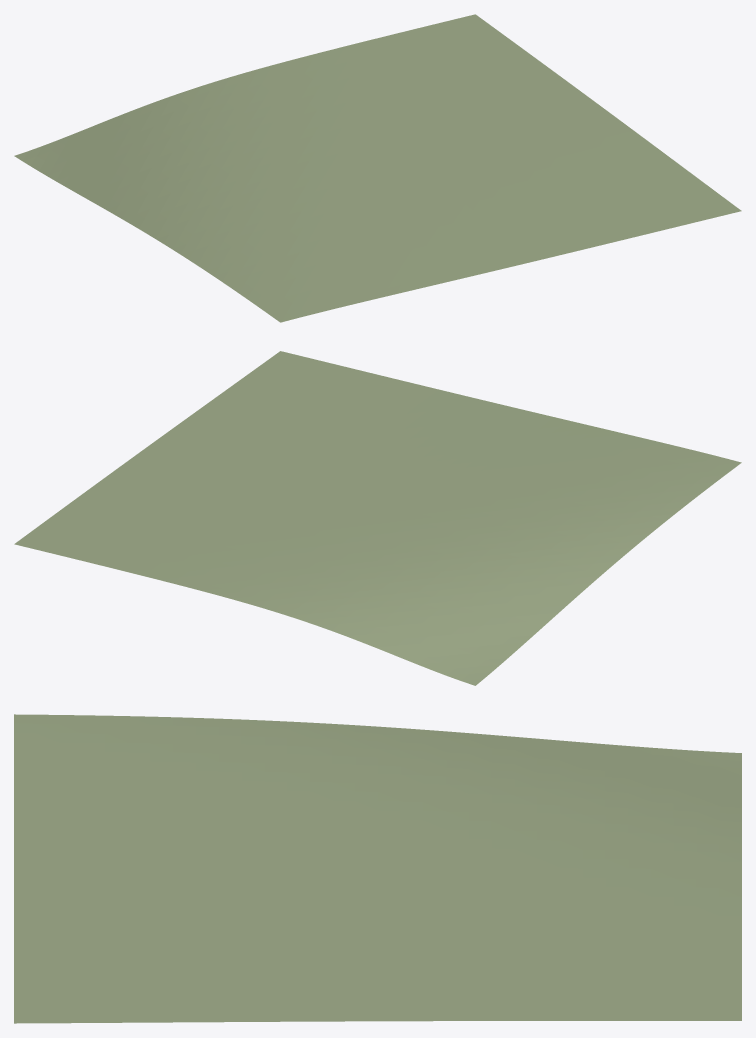
Rendered from desert-13-30.glb.
The picture shows the model from 3 angles, top to bottom: view 1: azimuth 30°, elevation 25°; view 2: azimuth 150°, elevation 25°; view 3: azimuth 270°, elevation 25°; orthographic projection. The views are drawn at different scales.
Parts seen in each view (by area): view 1: desert-13-30; view 2: desert-13-30; view 3: desert-13-30.
Part boxes in pixels (x1,y1,x2,y2): desert-13-30: [14, 14, 741, 322]; desert-13-30: [14, 351, 741, 685]; desert-13-30: [14, 714, 741, 1023].
Size of the model in its own units: 512 by 30.98 by 512.
